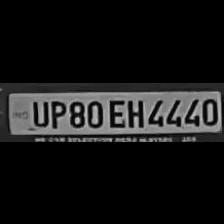0: (84, 97, 104, 127), (198, 94, 218, 124)
4: (145, 96, 163, 126), (181, 94, 199, 124), (164, 95, 181, 125)
8: (66, 97, 86, 127)
E: (106, 96, 126, 127)
H: (125, 96, 144, 127)
P: (46, 98, 66, 127)
U: (28, 96, 48, 126)
